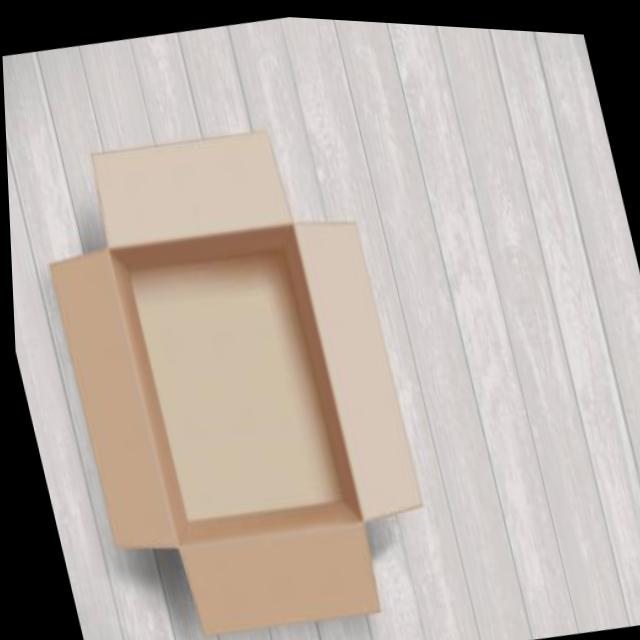box: (2, 70, 477, 640)
